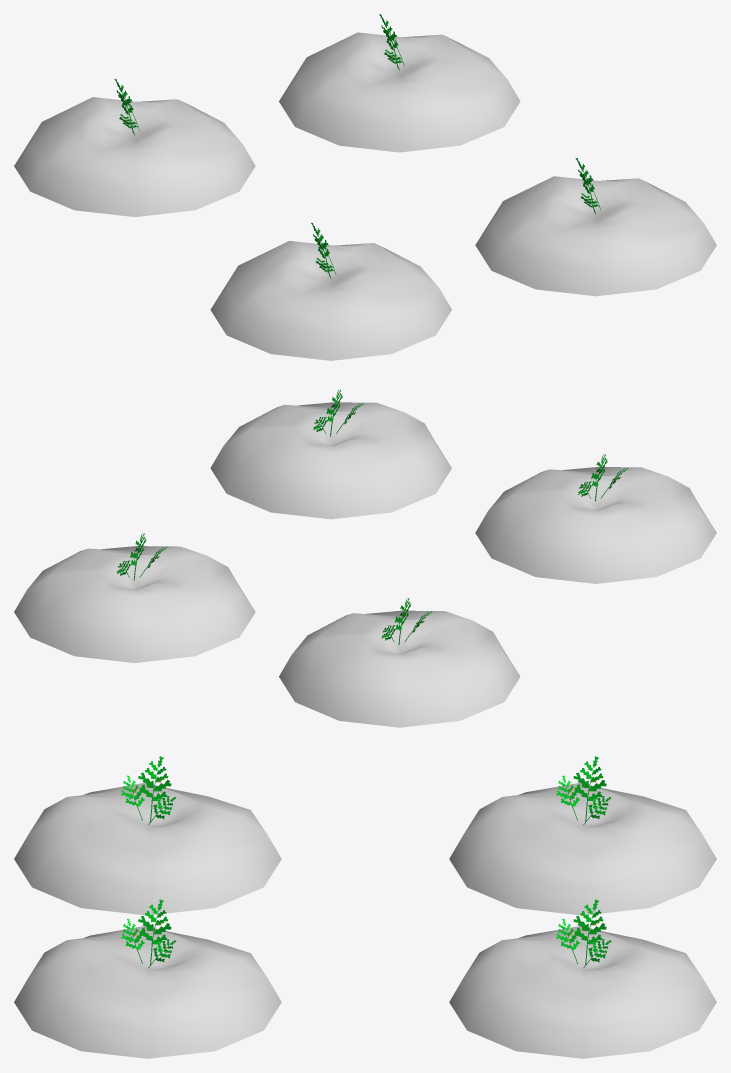
The model's file is Carrot2.fbx.
3 renders of one model, top to bottom at view 1: azimuth 30°, elevation 25°; view 2: azimuth 150°, elevation 25°; view 3: azimuth 270°, elevation 25°, orthographic. The views are drawn at different scales.
Visible parts, largest first — view 1: Circle.016, Circle.017; view 2: Circle.016, Circle.017; view 3: Circle.016, Circle.017.
Boxes of the visible parts, x1,y1,x2,y2 form: Circle.016: [14, 32, 716, 360]; Circle.017: [114, 14, 601, 278]; Circle.016: [14, 402, 716, 727]; Circle.017: [117, 389, 627, 644]; Circle.016: [14, 783, 716, 1058]; Circle.017: [121, 756, 611, 968].
Size of the model in its own units: 453 by 78.83 by 525.
